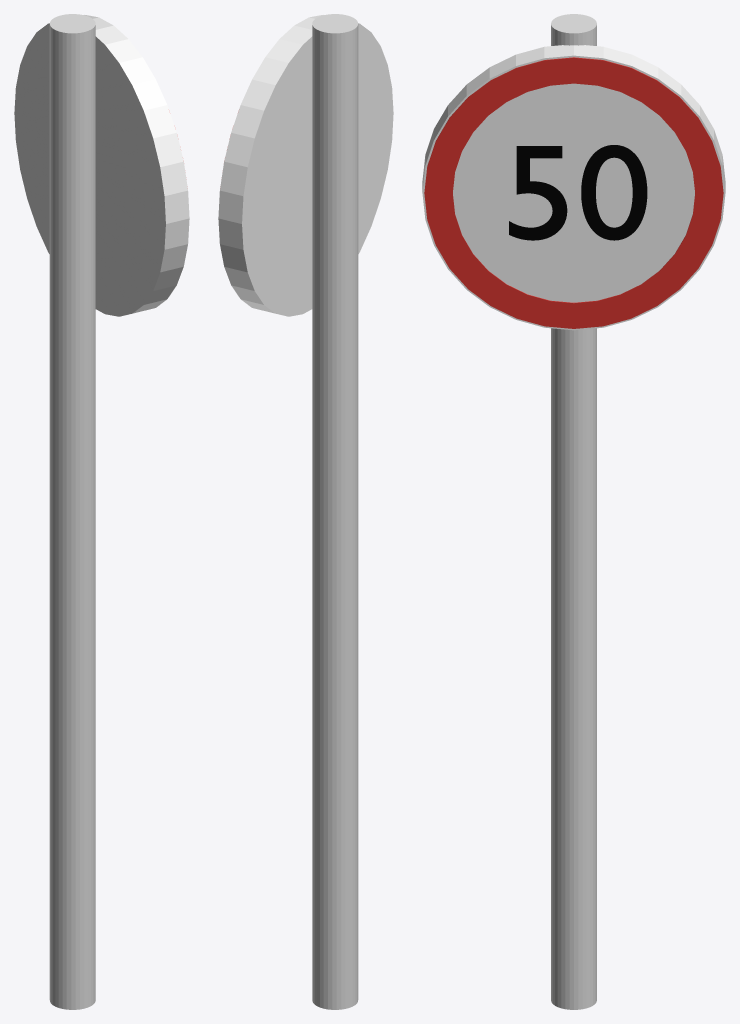
The model's file is SignSpeedLimit50.fbx.
The picture shows the model from 3 angles, left to right: view 1: azimuth 30°, elevation 25°; view 2: azimuth 150°, elevation 25°; view 3: azimuth 270°, elevation 25°; orthographic projection.
Parts seen in each view (by area): view 1: Cylinder.007, SignCircle.006; view 2: Cylinder.007, SignCircle.006; view 3: SignCircle.006, Cylinder.007, SignCircle.007, TextStop.004.
Boxes of the visible parts, bbox=[...] form: Cylinder.007: bbox=[49, 14, 95, 1009]; SignCircle.006: bbox=[14, 15, 189, 316]; Cylinder.007: bbox=[312, 14, 358, 1009]; SignCircle.006: bbox=[218, 15, 393, 316]; SignCircle.006: bbox=[422, 45, 725, 330]; Cylinder.007: bbox=[551, 14, 596, 1009]; SignCircle.007: bbox=[424, 57, 723, 328]; TextStop.004: bbox=[509, 145, 647, 240].
Size of the model in its own units: 111 by 1671 by 470.
